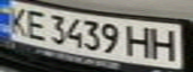3: (45, 12, 69, 46), (81, 18, 103, 52)
4: (63, 16, 84, 50)
9: (100, 20, 124, 55)
E: (21, 8, 51, 41)
H: (148, 26, 184, 63), (124, 22, 157, 60)
K: (0, 2, 33, 36)
